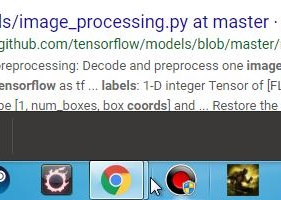cursor: (149, 176, 163, 197)
